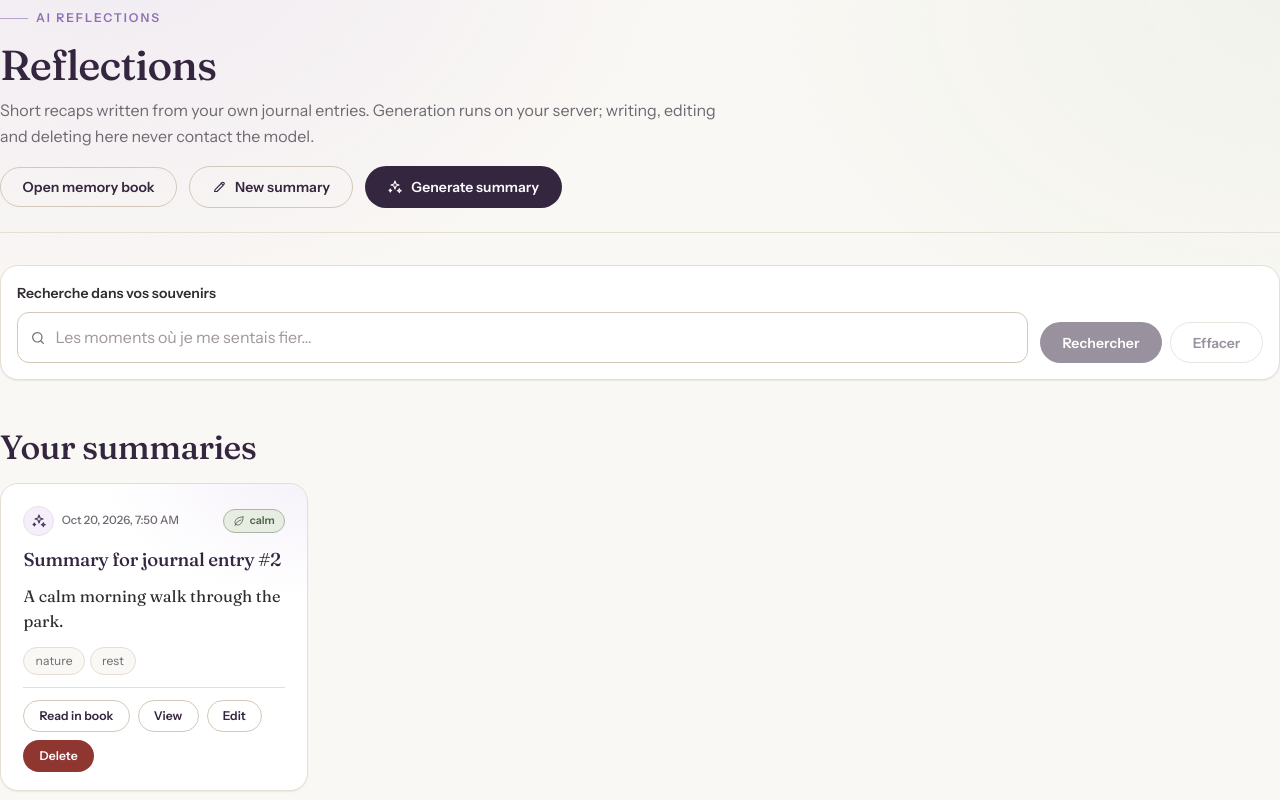
SummariesPage › deletes a summary after confirmation and refreshes the list
Expected: the text "A calm morning walk through the park." is shown, x1=23 y1=584 x2=285 y2=635
Click the button with aria-label "Delete summary 1".
click(59, 756)  # box x1=23 y1=740 x2=94 y2=772
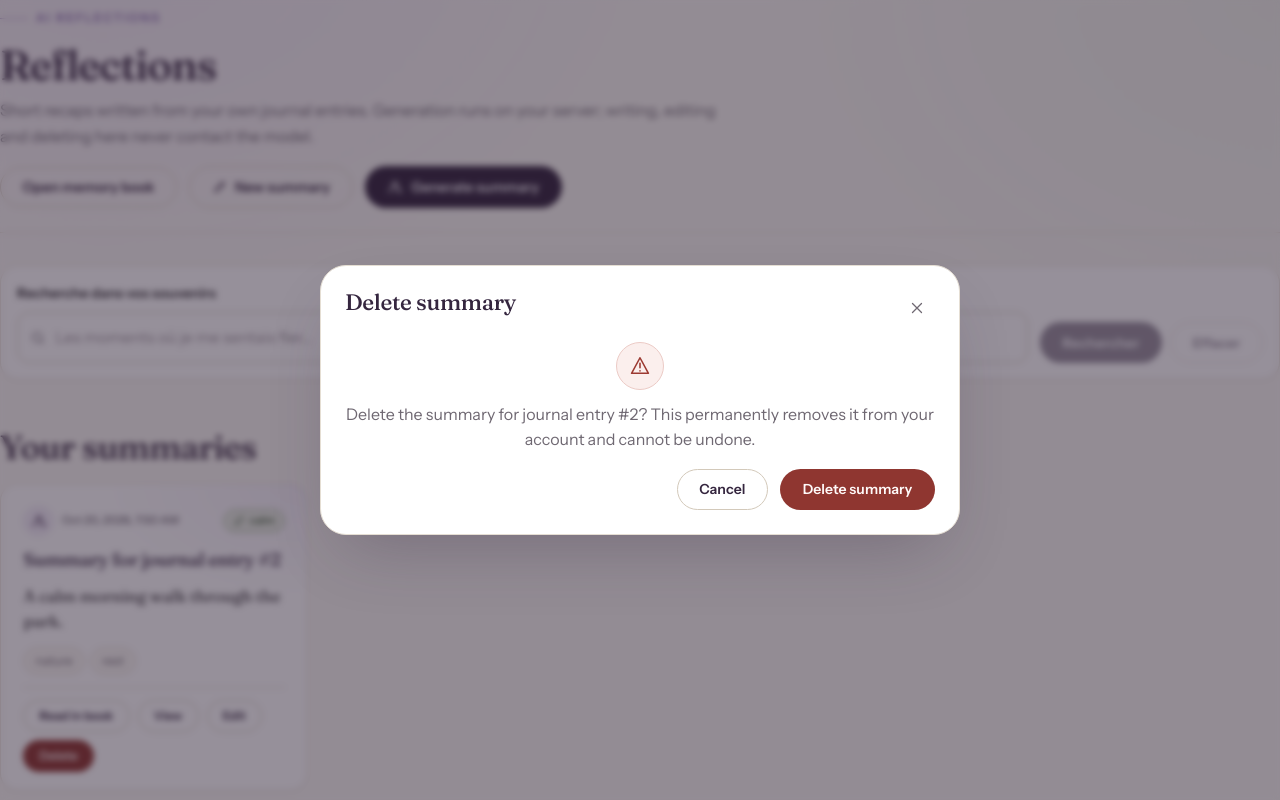
Click the button "Delete summary".
click(858, 489)  # box x1=780 y1=469 x2=935 y2=510
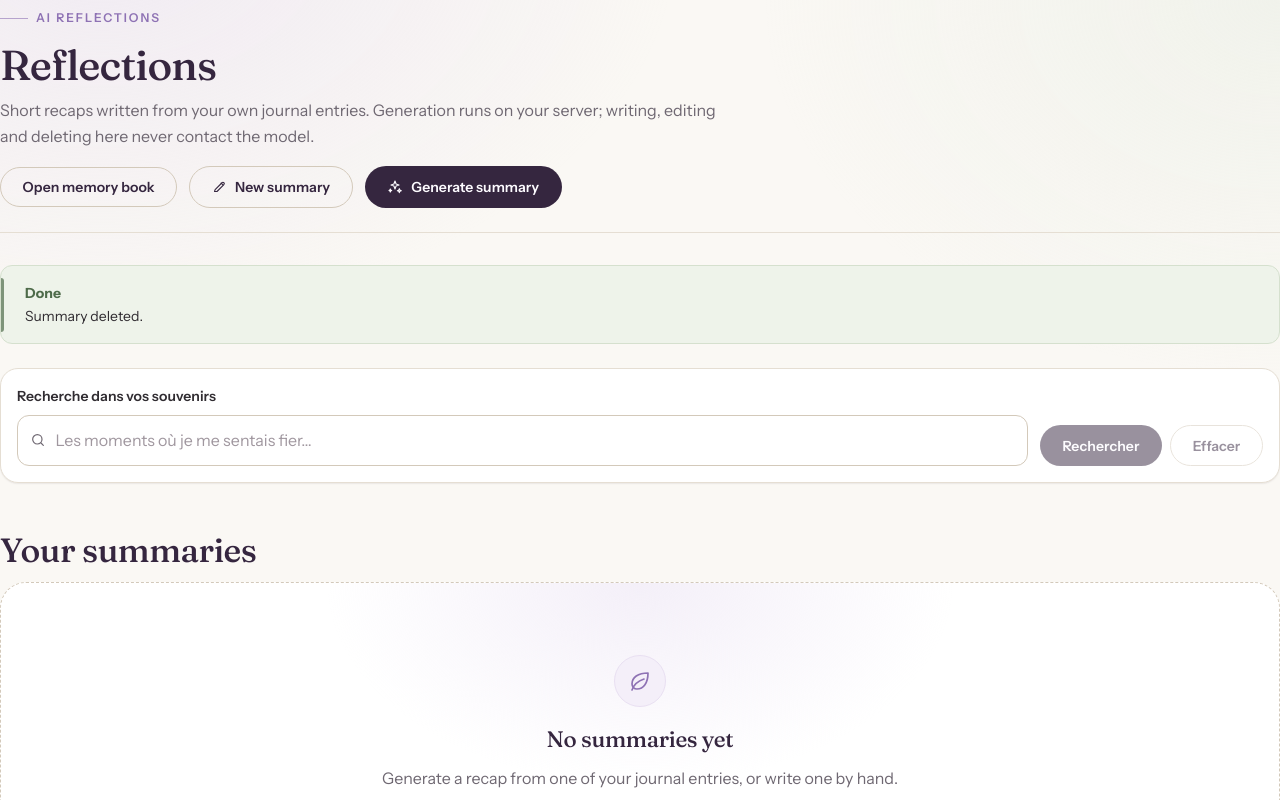
Expected: the text "Summary deleted." is shown, x1=25 y1=307 x2=143 y2=325
Expected: the heading "No summaries yet" is shown, x1=547 y1=727 x2=733 y2=753
